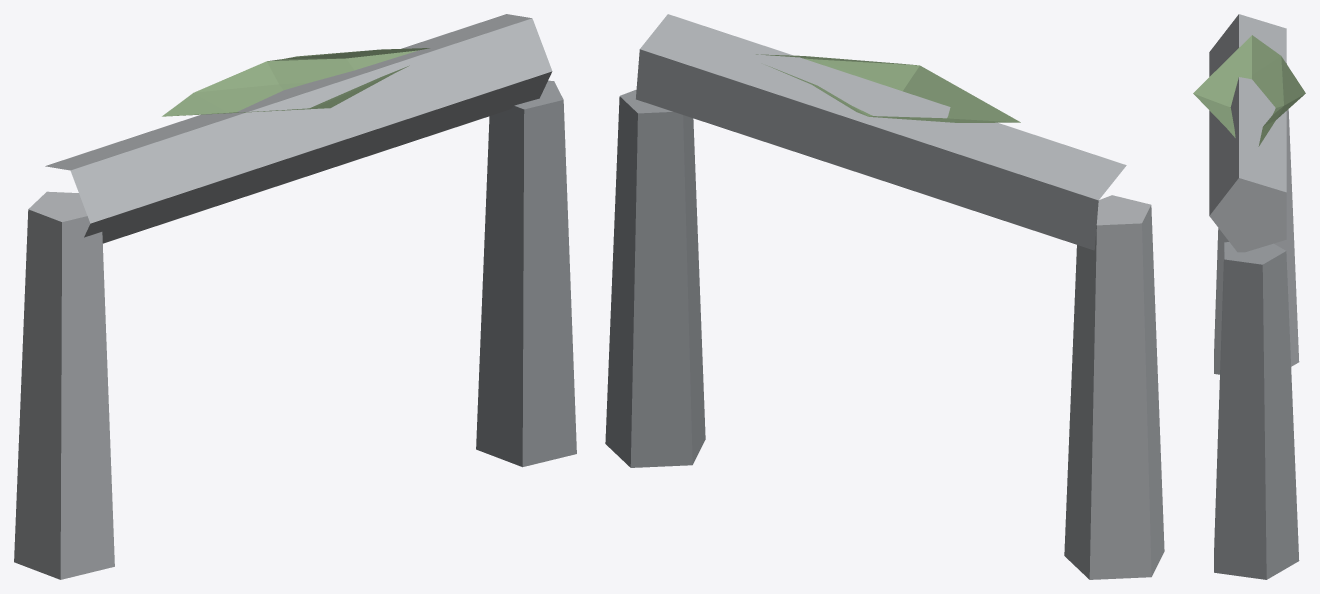
The model's file is arch_rock_v08.glb.
3 renders of one model, left to right at view 1: azimuth 30°, elevation 25°; view 2: azimuth 150°, elevation 25°; view 3: azimuth 270°, elevation 25°, orthographic. The views are drawn at different scales.
Parts seen in each view (by area): view 1: lod0; view 2: lod0; view 3: lod0.
Part boxes in pixels (<box>): lod0: <box>14,14,576,579</box>; lod0: <box>605,14,1164,579</box>; lod0: <box>1193,14,1305,579</box>.
Size of what is drawn, in the model's own units: 2.62 by 2.02 by 0.5283.
